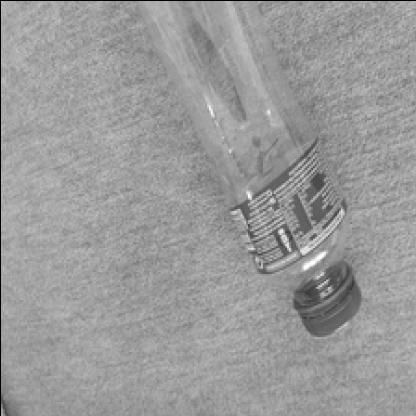plastic_bottles: (140, 0, 368, 338)
